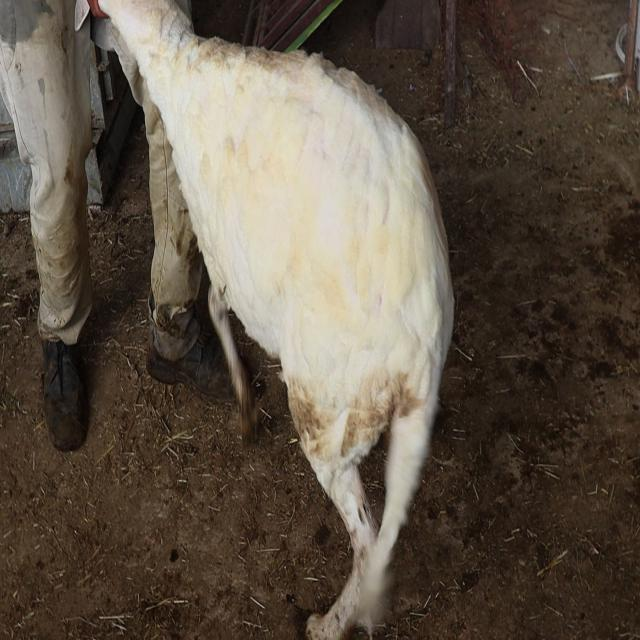Score_5: (99, 0, 454, 639)
